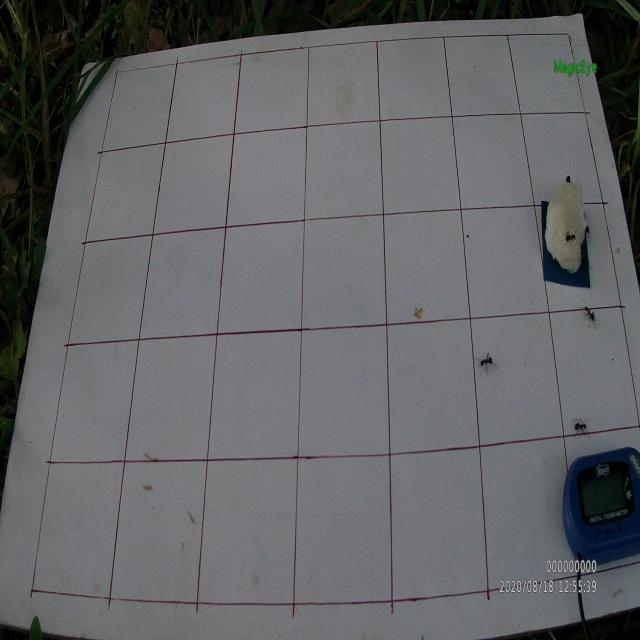Ant: (478, 352, 496, 374), (583, 302, 596, 328), (572, 418, 589, 435), (563, 229, 578, 244), (582, 245, 590, 268)
